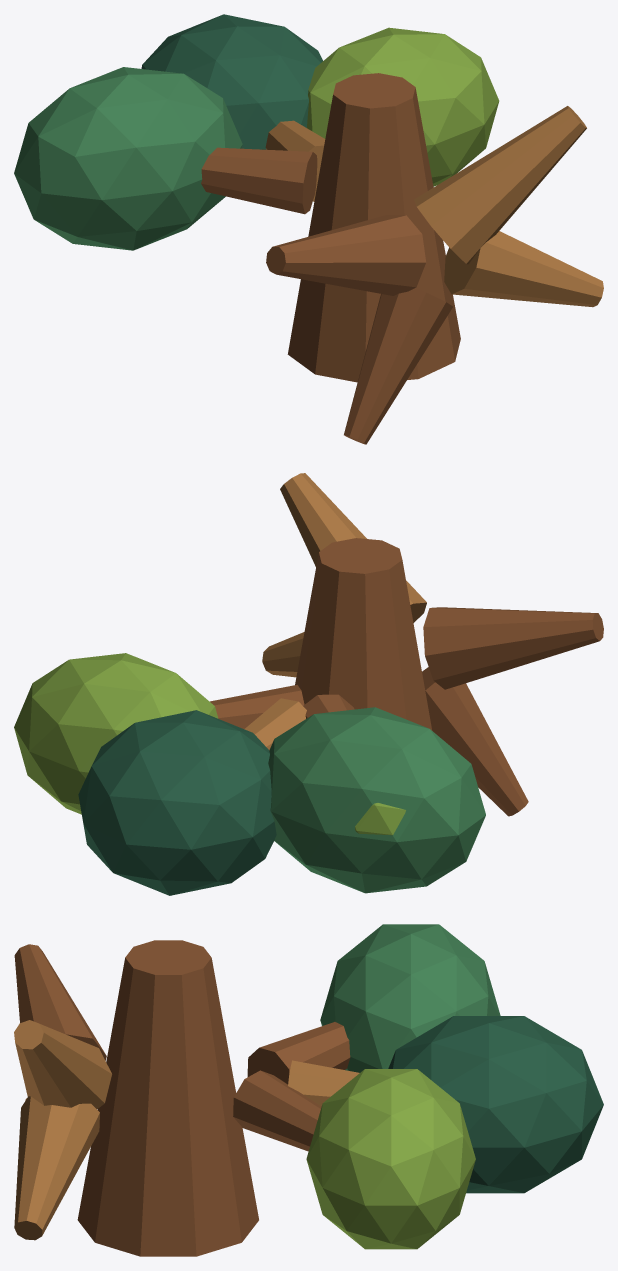
The model's file is rootbound-buttress-v1.glb.
3 renders of one model, top to bottom at view 1: azimuth 30°, elevation 25°; view 2: azimuth 150°, elevation 25°; view 3: azimuth 270°, elevation 25°, orthographic. The views are drawn at different scales.
Parts seen in each view (by area): view 1: rootbound_buttress_canopy_v1; view 2: rootbound_buttress_canopy_v1; view 3: rootbound_buttress_canopy_v1.
Part boxes in pixels (x1,y1,x2,y2): rootbound_buttress_canopy_v1: (14, 14, 603, 444); rootbound_buttress_canopy_v1: (14, 473, 603, 895); rootbound_buttress_canopy_v1: (14, 924, 603, 1256).
Bounding box in the file's own units: 6.15 × 3.74 × 6.82.
